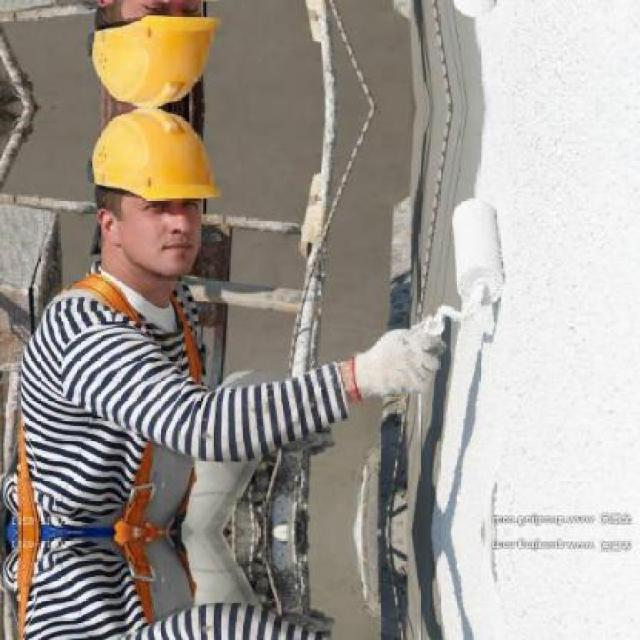Reflective-Jacket: (2, 262, 282, 628)
Safety-Helmet: (72, 106, 232, 223)
